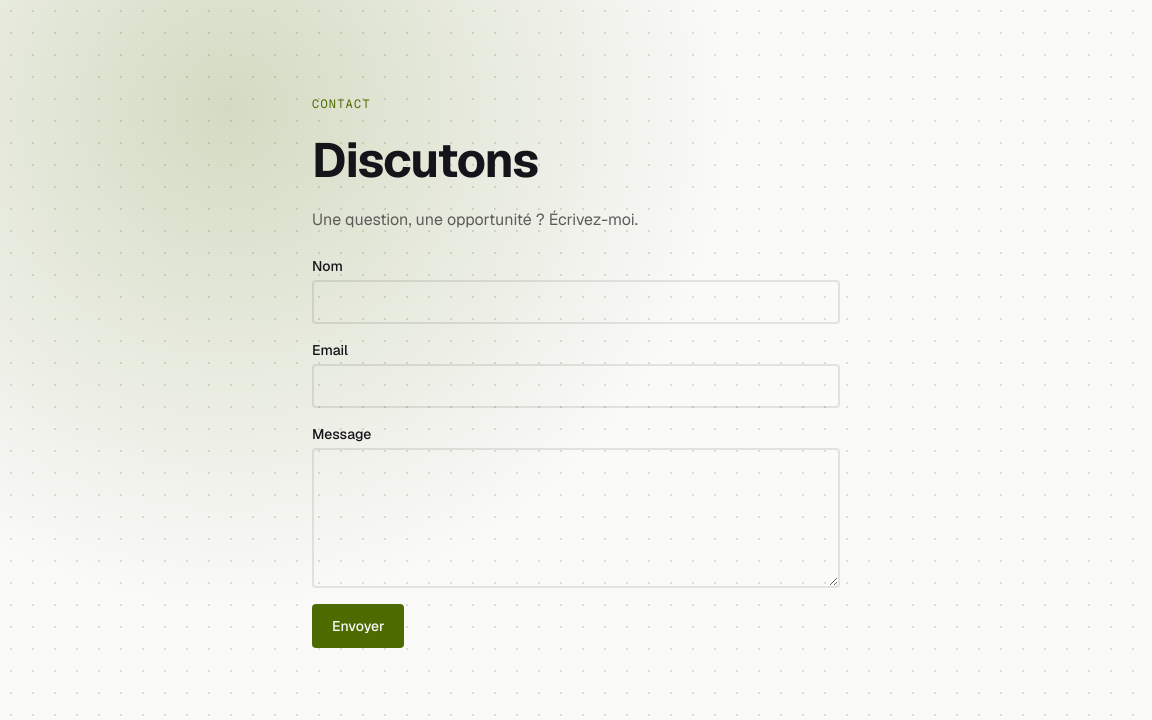
Test: Contact page › affiche une erreur d'email invalide
In the field labelled "Nom": (576, 302) [312,280,840,324], type "Jane Doe"
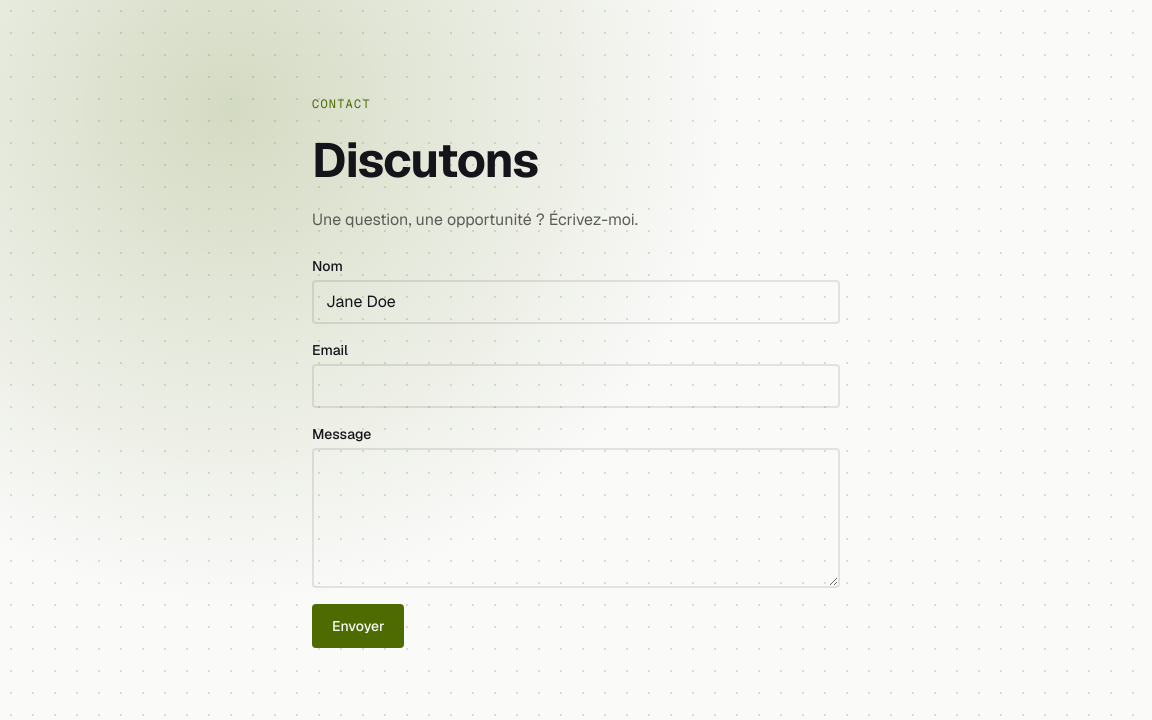
In the field labelled "Email": (576, 386) [312,364,840,408], type "not-an-email"
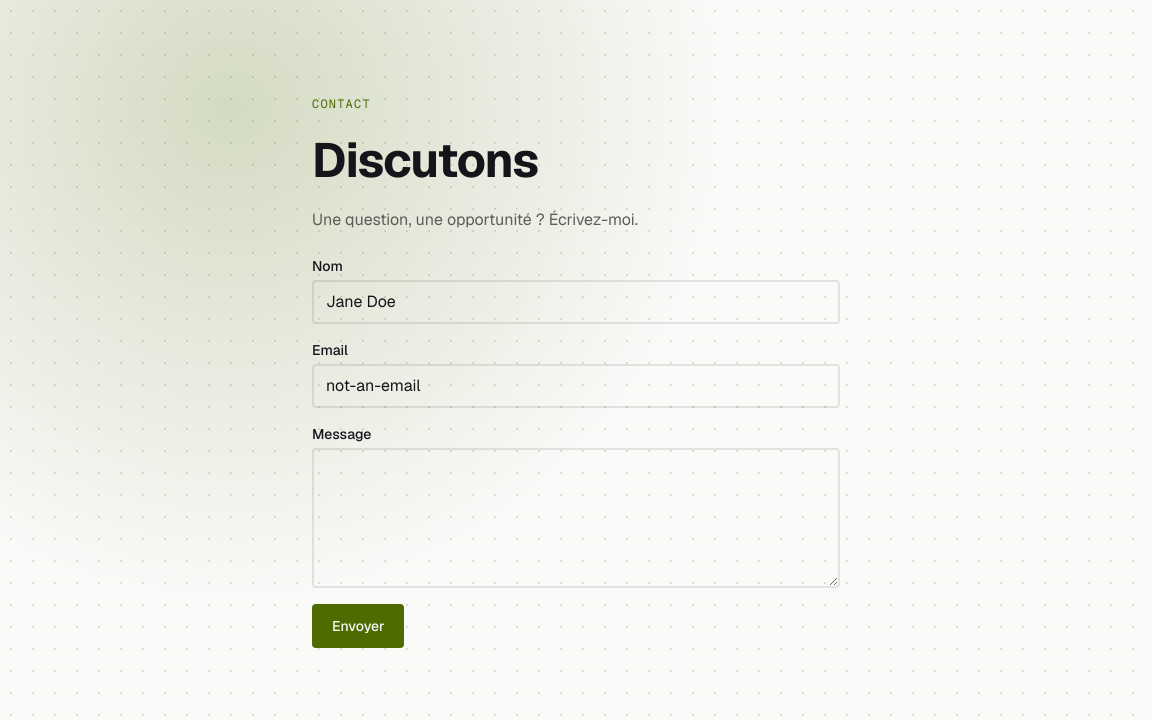
In the text box labelled "Message": (576, 518) [312,448,840,588], type "Bonjour."
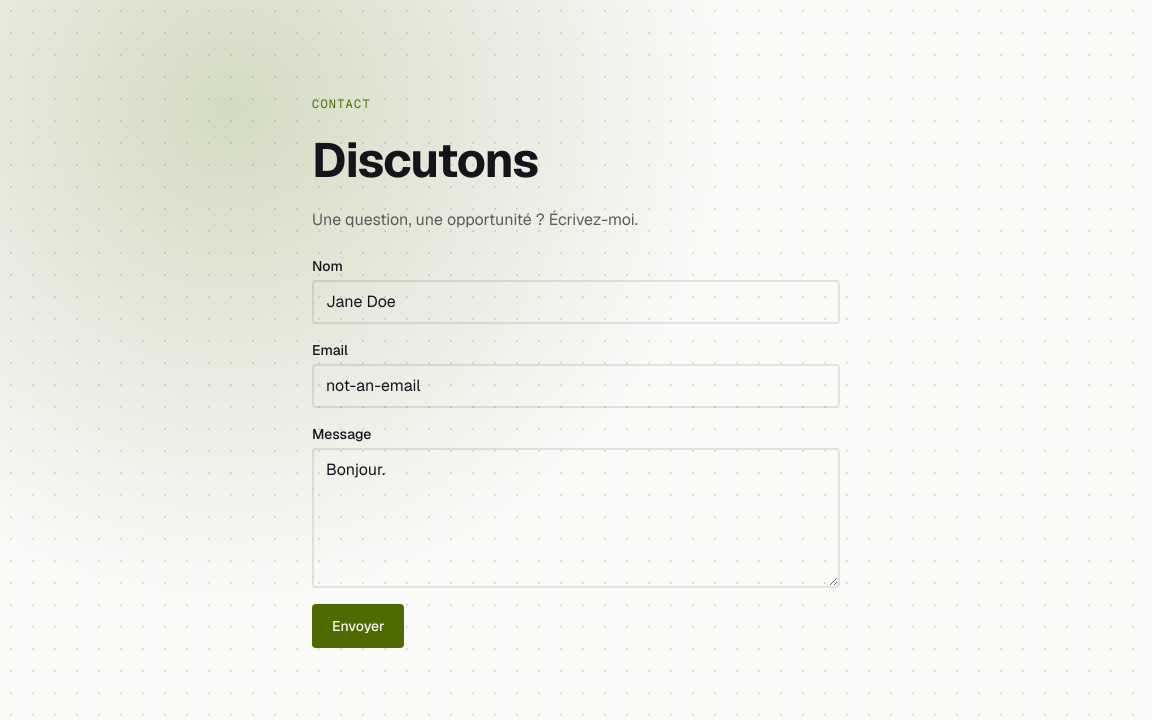
Click the button "Envoyer": (358, 626) [312,604,404,648]
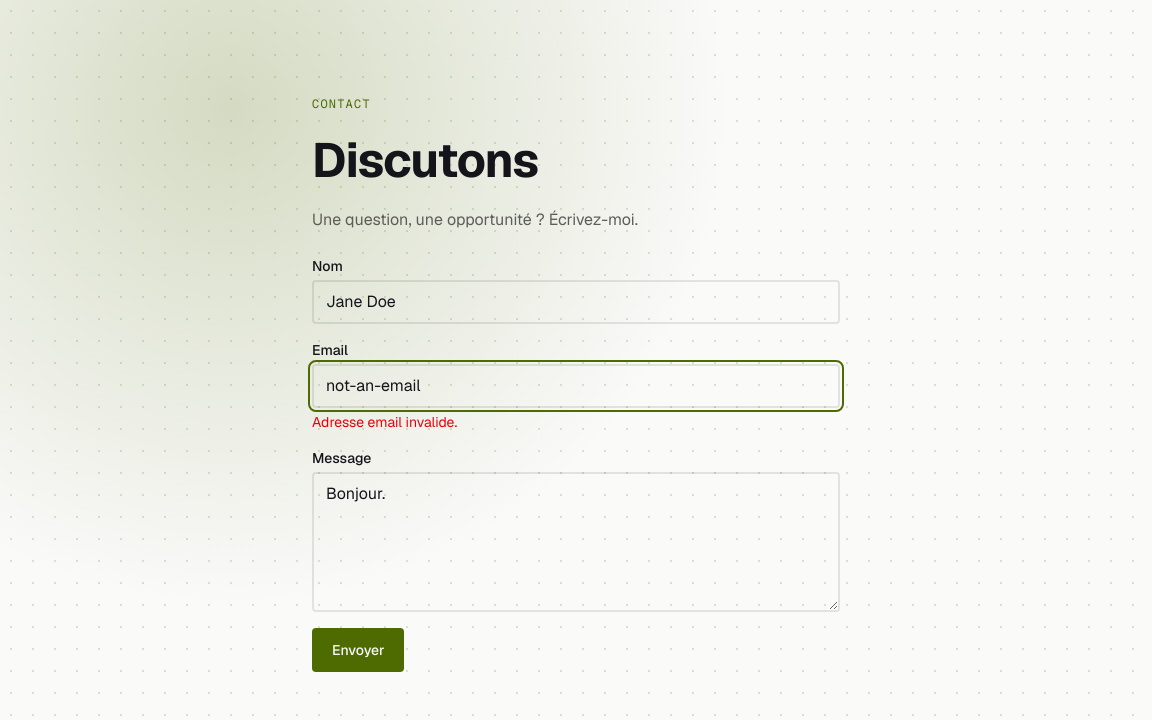
Expected: the text "Adresse email invalide." is shown, [312,413,457,431]
